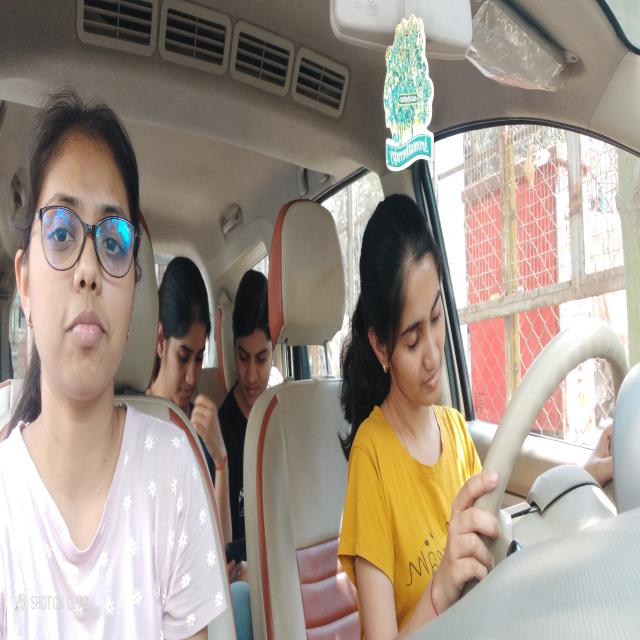drowsy: (358, 193, 456, 431)
person: (14, 88, 143, 430), (157, 256, 210, 419), (231, 264, 278, 402)
